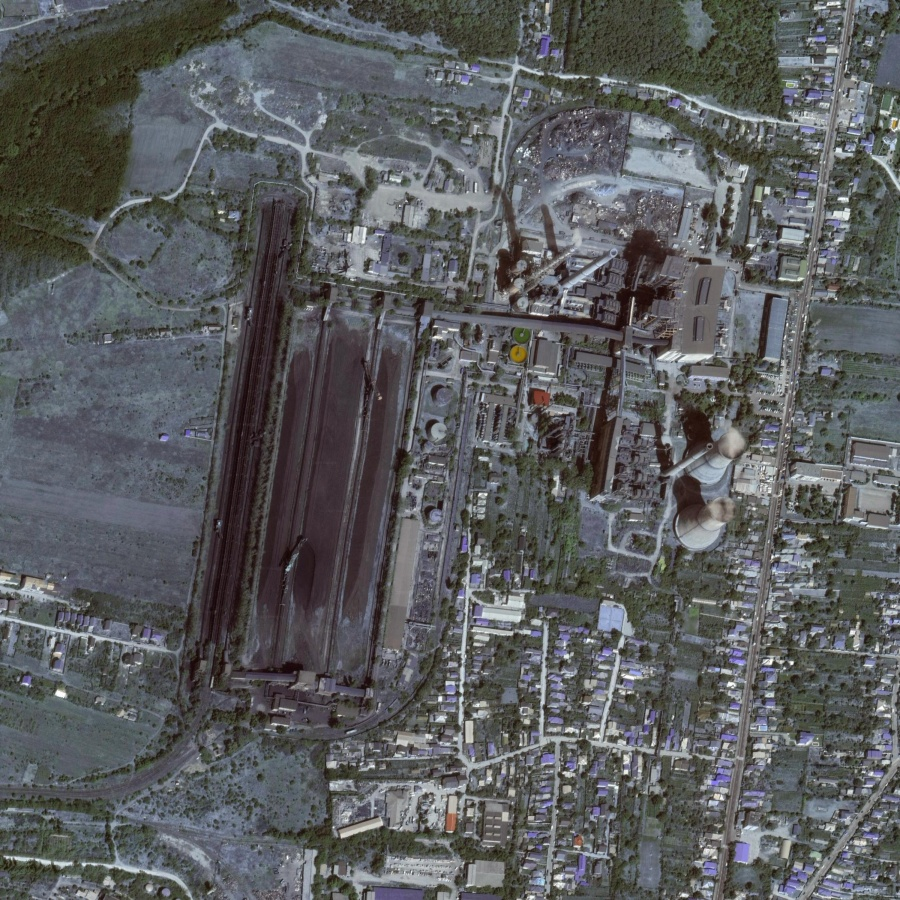PowerPlant: (202, 171, 756, 719)
